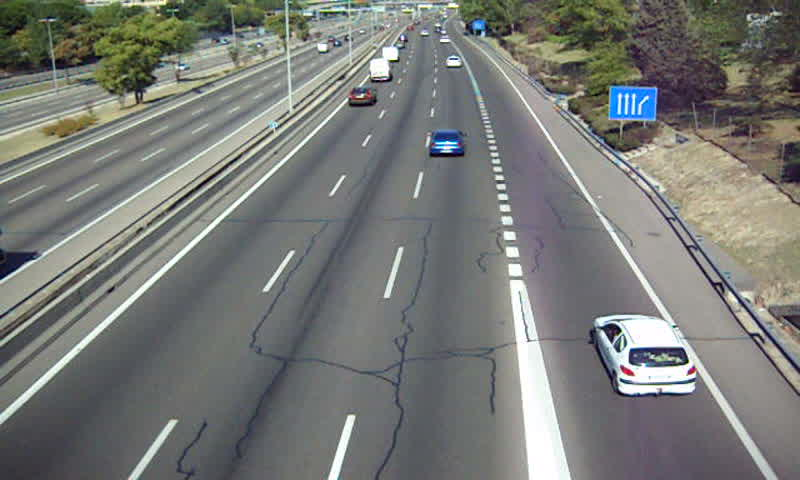car: (594, 313, 696, 396), (427, 128, 468, 158), (347, 86, 376, 107)
van: (368, 58, 392, 82), (382, 45, 399, 60)
